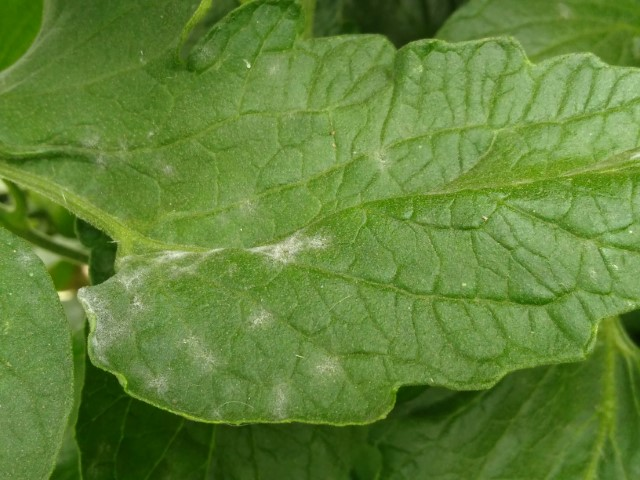oidio: (252, 226, 341, 271), (84, 285, 135, 360), (121, 247, 230, 275), (181, 329, 222, 372), (139, 369, 173, 402), (315, 349, 350, 381), (268, 384, 298, 419), (368, 144, 396, 177), (243, 301, 272, 331), (75, 129, 105, 156), (155, 156, 183, 182), (13, 250, 35, 272), (264, 58, 285, 81)
